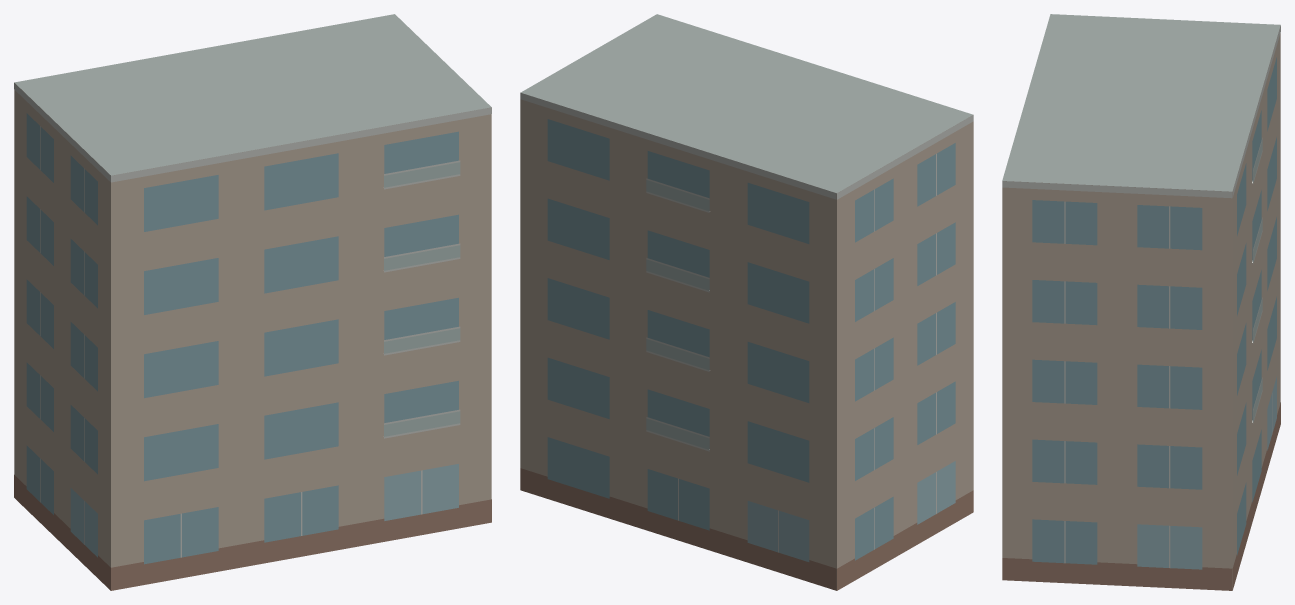
The model's file is survey-upis-32669128.glb.
3 renders of one model, left to right at view 1: azimuth 30°, elevation 25°; view 2: azimuth 150°, elevation 25°; view 3: azimuth 270°, elevation 25°, orthographic. The views are drawn at different scales.
Visible parts, largest first — view 1: survey-upis-32669128.tmp; view 2: survey-upis-32669128.tmp; view 3: survey-upis-32669128.tmp.
Part boxes in pixels (x1,y1,x2,y2): survey-upis-32669128.tmp: [14, 14, 491, 590]; survey-upis-32669128.tmp: [520, 14, 973, 590]; survey-upis-32669128.tmp: [1002, 14, 1280, 590].
Bounding box in the file's own units: 14.08 × 14.75 × 9.34.
